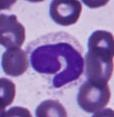E: (28, 32, 86, 90)
